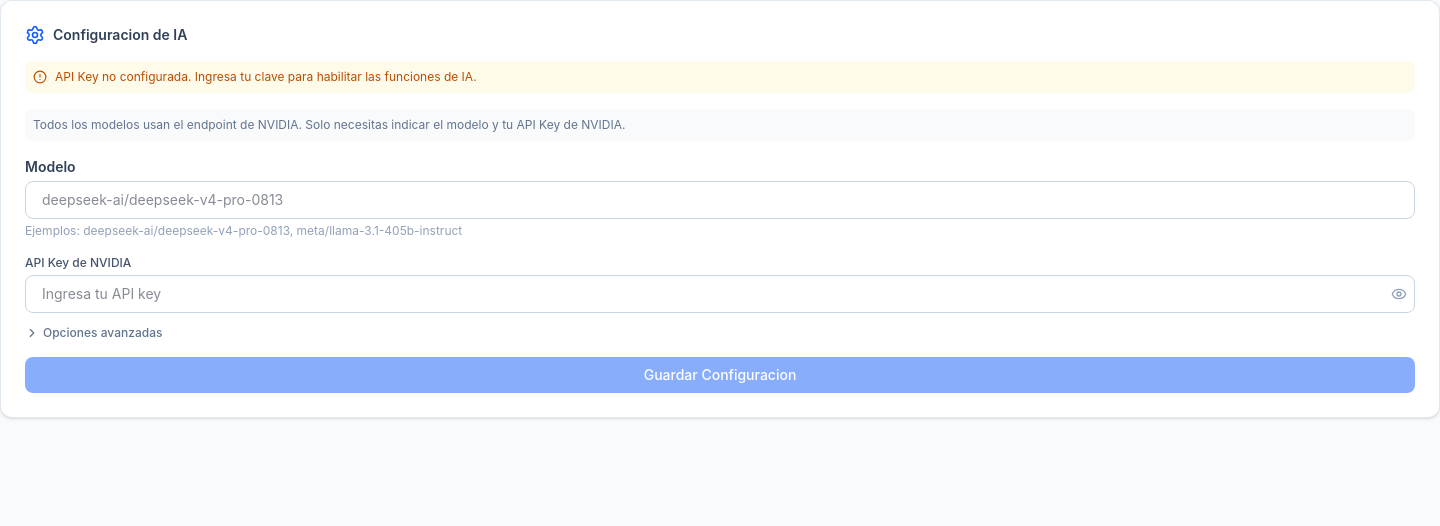
Test: AIConfig › keeps the Base URL field hidden behind advanced options by default
Expected: the text "Base URL" is not shown
Click the button "Opciones avanzadas" at (94, 333), box [25,325,162,341]
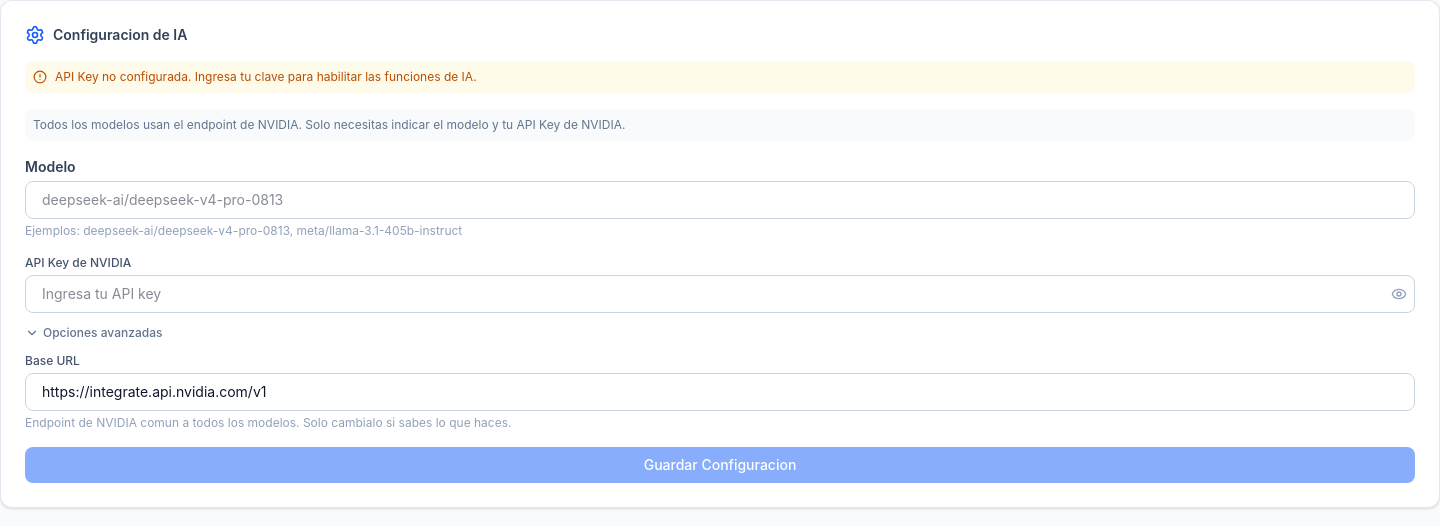
Result: the text "Base URL" is shown at [25,353,80,368]
